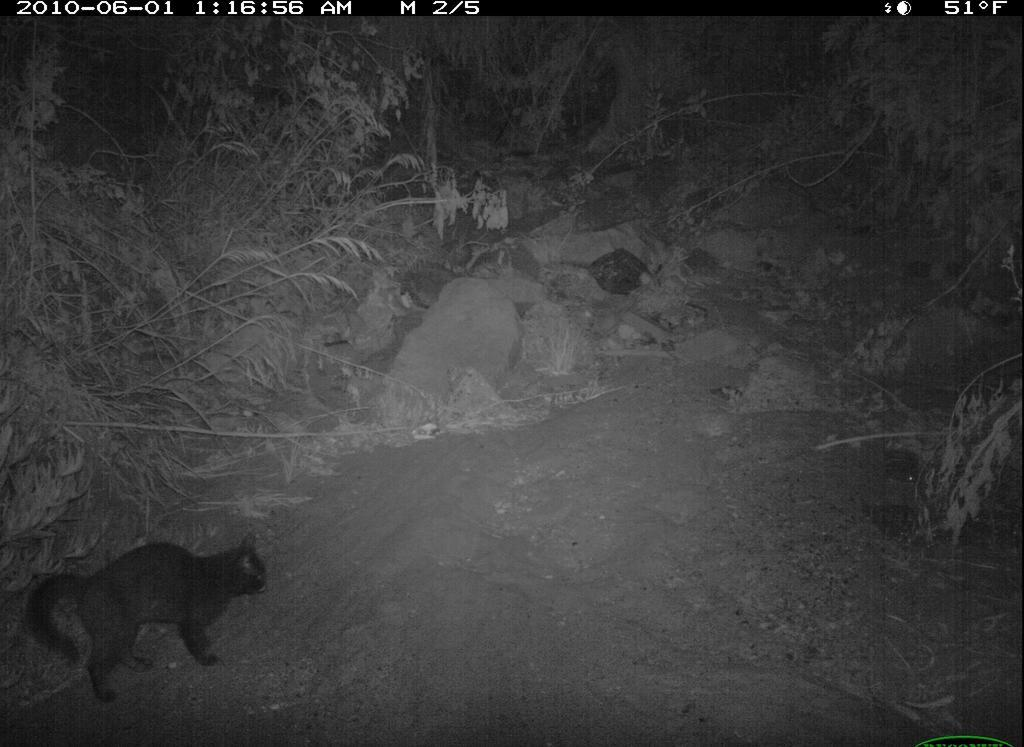cat: (22, 519, 274, 705)
